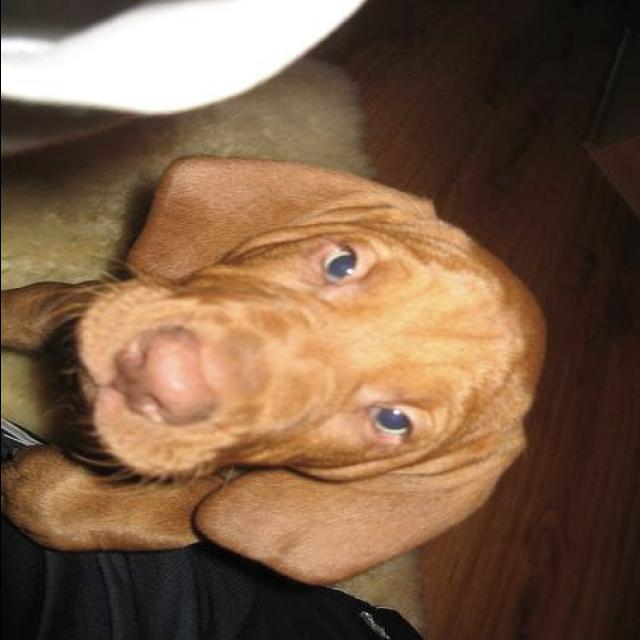vizsla: (6, 155, 550, 581)
